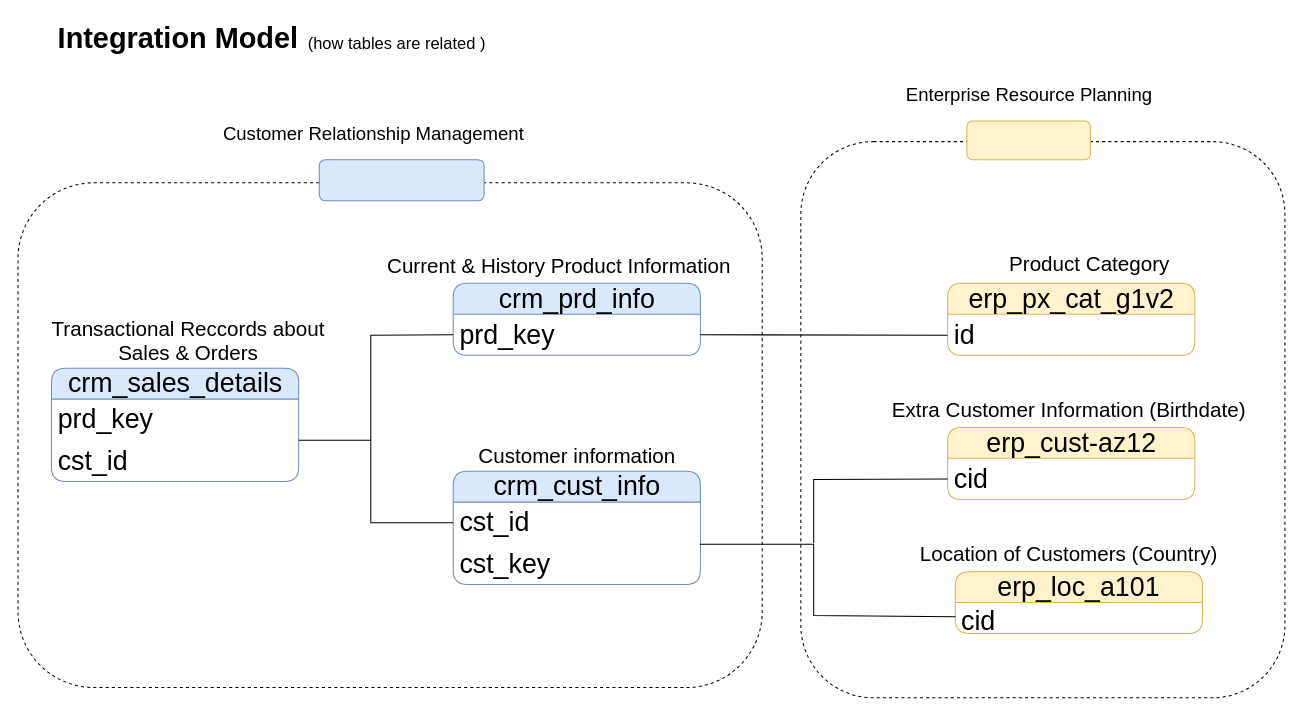
Image size: 1303x716. Some labels were removed from this diagram. Here are the shapes that lost their labels. From the top down, the centre of each, then its label:
the point at 1028,140: ERP
the point at 401,180: CRM
